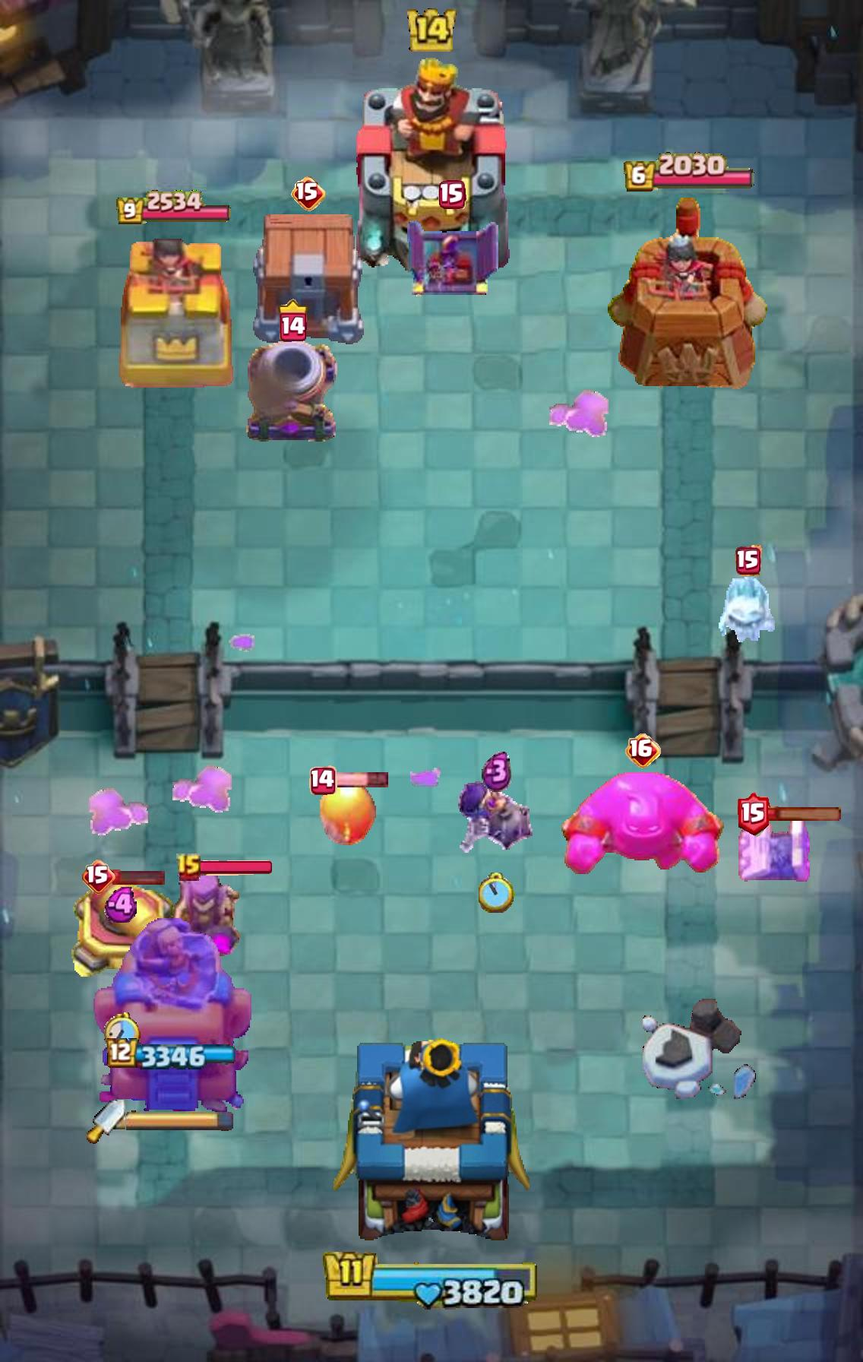elixir: (104, 887, 142, 922), (481, 750, 512, 792)
